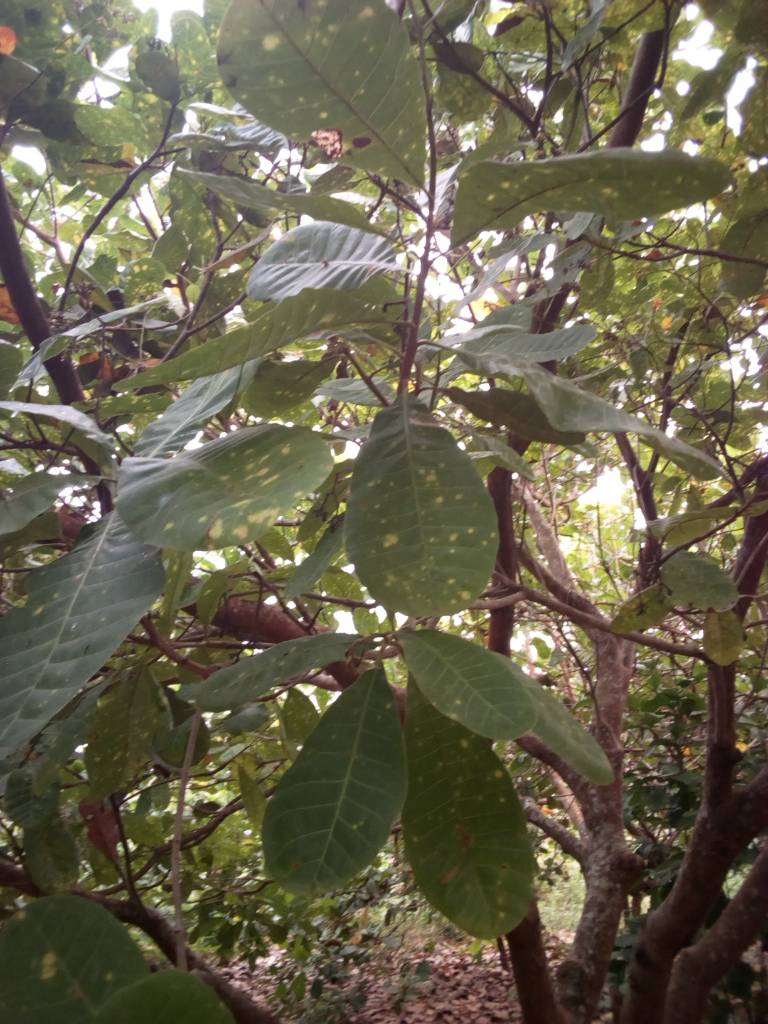Carence minérale: (207, 1, 450, 207), (108, 274, 433, 400), (336, 392, 516, 613), (260, 666, 415, 886), (454, 142, 736, 246), (410, 716, 540, 941), (125, 414, 333, 553)
